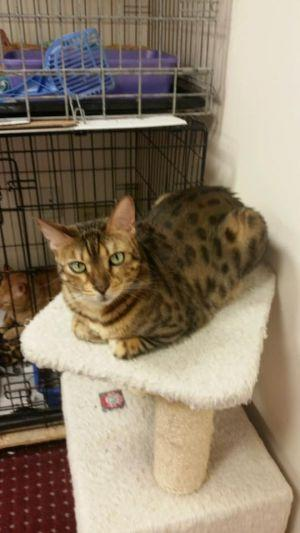bengal: (29, 188, 157, 320)
